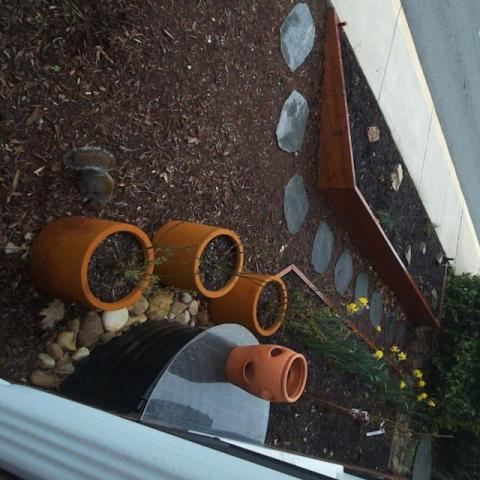small_animal: (60, 144, 118, 210)
